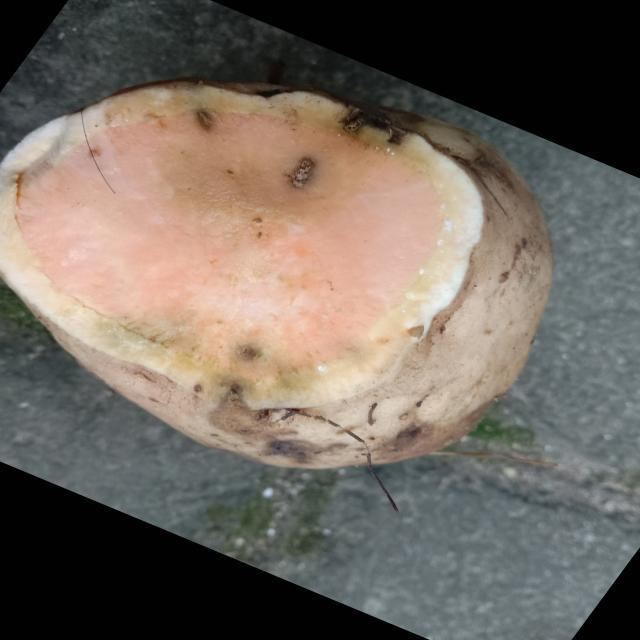Sick Sweet Potato_Tuber Rot: (2, 81, 483, 409)
